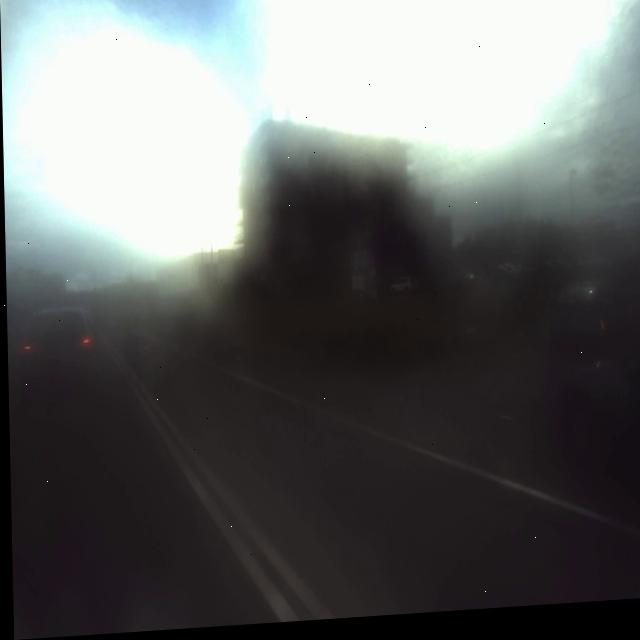car: (5, 271, 104, 419)
